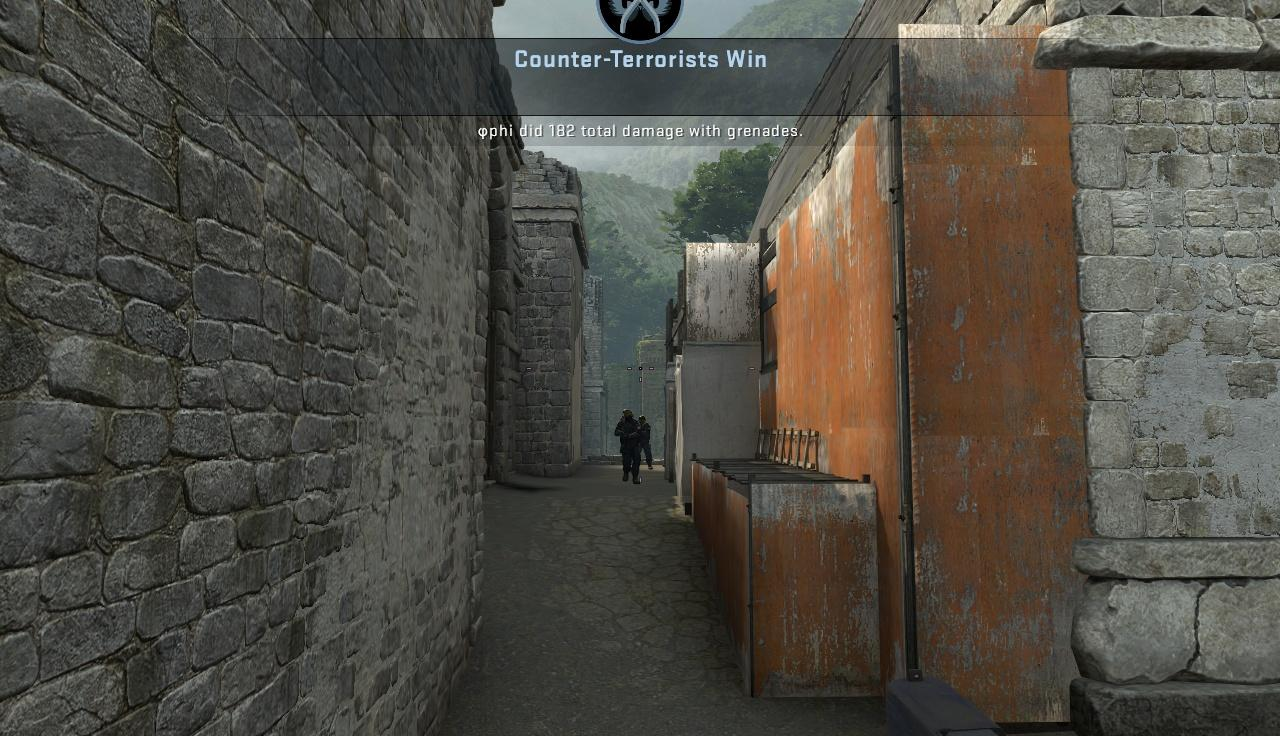ct: (619, 410, 650, 485)
cthead: (621, 409, 634, 423), (636, 415, 646, 425)
pistol: (873, 658, 1109, 736)
